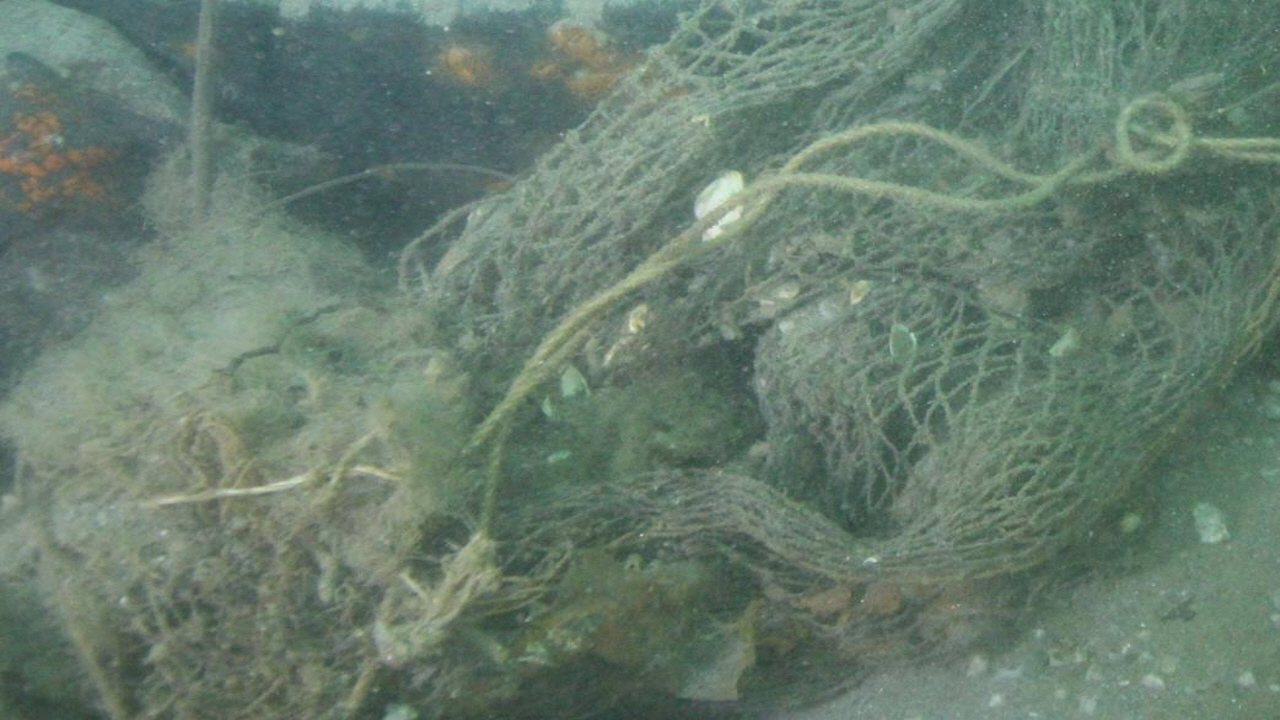fish net: (426, 4, 1280, 666)
